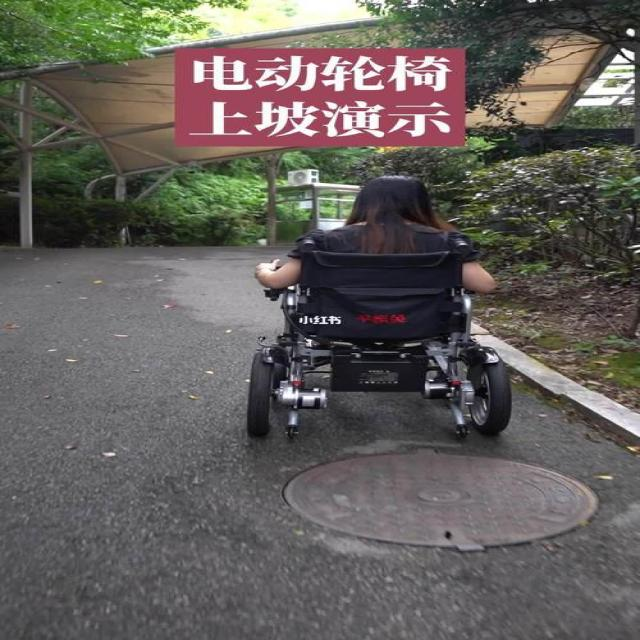wheelchairs: (232, 236, 531, 444)
